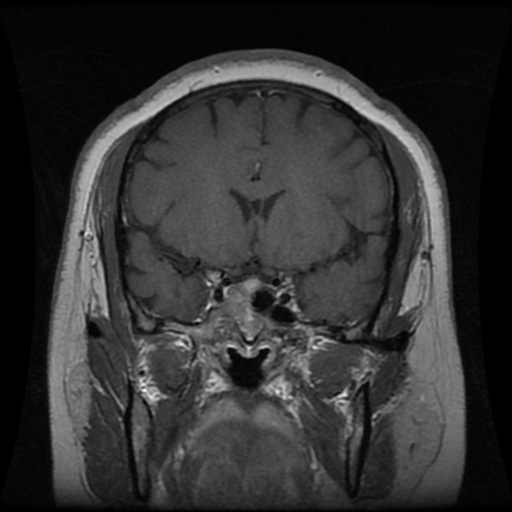pituitary: (223, 279, 262, 339)
